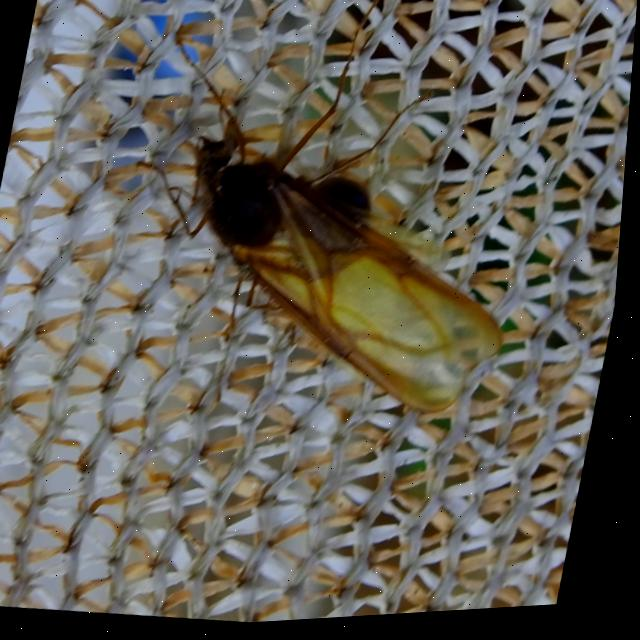Alive-Male-Alate: (91, 0, 572, 460)
